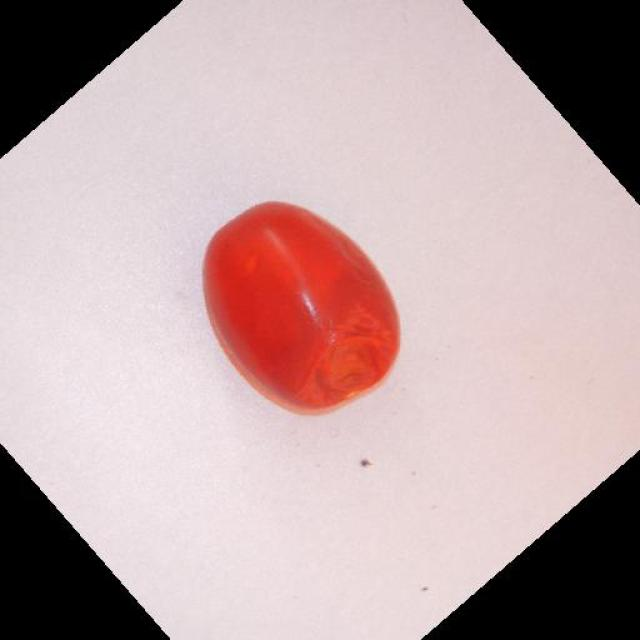Stale_tomato: (213, 199, 407, 425)
